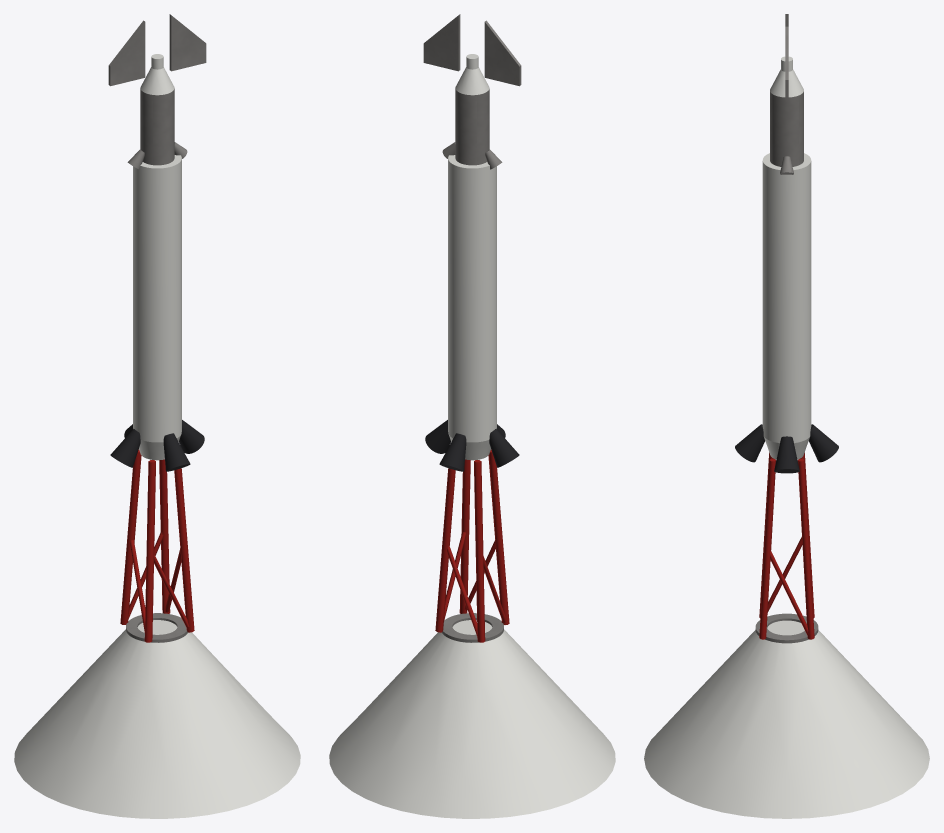
The model's file is prop24_launch_escape_tower_xl_canards.glb.
3 renders of one model, left to right at view 1: azimuth 30°, elevation 25°; view 2: azimuth 150°, elevation 25°; view 3: azimuth 270°, elevation 25°, orthographic.
Visible parts, largest first — view 1: boost_cover, abort_motor, tower_truss, jettison_motor, abort_nozzles, canard_2, canard_1, docking_ring, nose; view 2: boost_cover, abort_motor, tower_truss, jettison_motor, abort_nozzles, canard_2, canard_1, docking_ring, nose; view 3: boost_cover, abort_motor, tower_truss, jettison_motor, abort_nozzles, docking_ring, nose.
Part boxes in pixels (x1,y1,x2,y2): boost_cover: (14,620,300,818); abort_motor: (133,155,181,460); tower_truss: (120,449,194,642); jettison_motor: (127,88,187,169); abort_nozzles: (110,420,204,471); canard_2: (108,20,145,86); canard_1: (169,14,206,71); docking_ring: (126,613,187,642); nose: (140,54,174,95); boost_cover: (329,620,615,818); abort_motor: (448,155,496,460); tower_truss: (435,449,509,642); jettison_motor: (442,88,502,169); abort_nozzles: (425,420,519,471); canard_2: (484,20,521,86); canard_1: (423,14,460,71); docking_ring: (442,613,503,642); nose: (455,54,489,95); boost_cover: (644,620,929,818); abort_motor: (762,153,811,459); tower_truss: (759,452,814,639); jettison_motor: (770,91,803,174); abort_nozzles: (735,424,838,473); docking_ring: (755,613,818,643); nose: (770,56,803,97).
Bounding box in the file's own units: 5 × 14.24 × 5.
4 materials, 1 textured.
